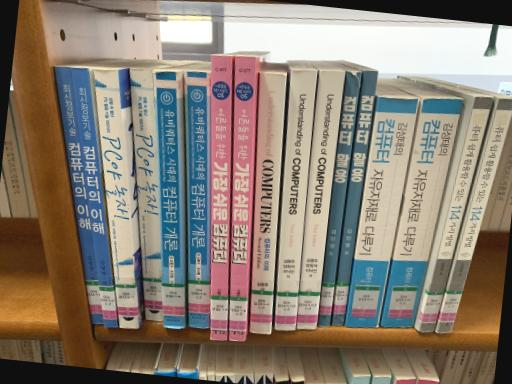book-spine: (381, 98, 462, 327), (435, 98, 512, 333), (418, 96, 494, 331), (345, 95, 418, 326), (53, 66, 103, 324), (69, 67, 118, 327), (295, 69, 344, 328), (331, 70, 378, 325), (93, 69, 138, 328), (318, 71, 362, 326), (275, 69, 317, 330), (249, 73, 285, 333), (129, 68, 161, 320), (229, 56, 257, 341), (153, 71, 183, 328), (184, 71, 209, 328), (211, 55, 232, 340)
